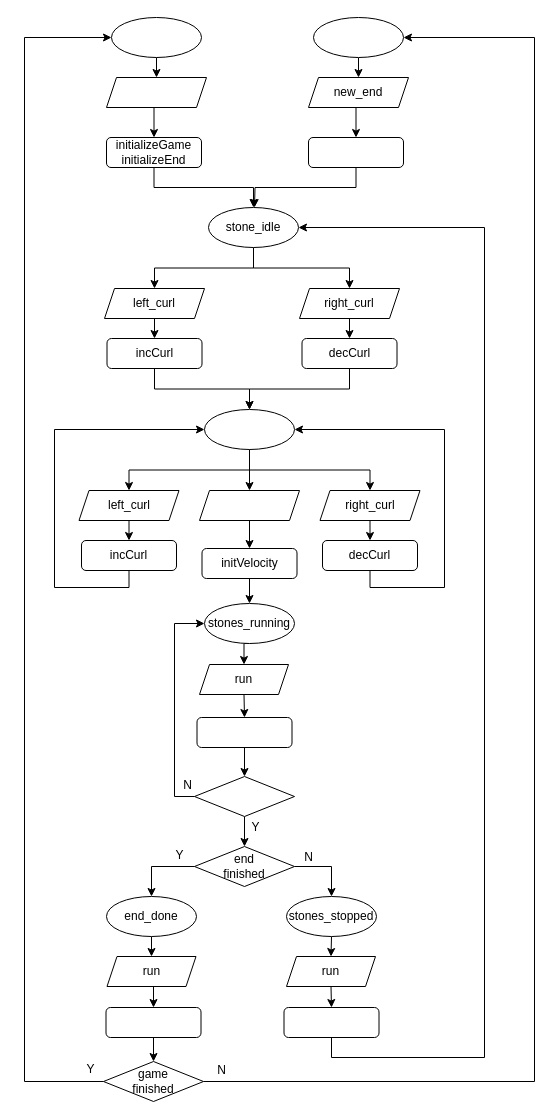
Some shapes in this 560 by 1119 pixel diagram are drawn without their labels. Here are the shapes that lost their labels. From the top down, the centre of each, then its label:
At pixel 156 37: "game_idle".
At pixel 358 37: "end_idle".
At pixel 156 92: "new_game".
At pixel 356 152: "initializeEnd".
At pixel 249 429: "shoot_ready".
At pixel 249 505: "shoot".
At pixel 244 732: "moveStones".
At pixel 244 796: "stones stopped".
At pixel 153 1022: "updateScore".
At pixel 331 1022: "nextStone".
